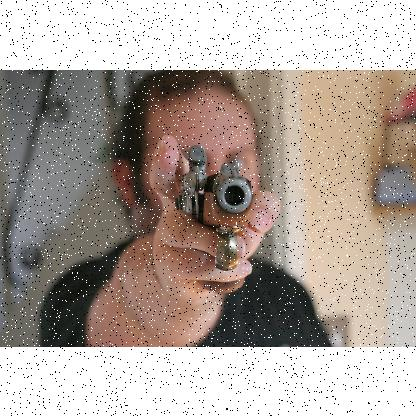gun: (175, 144, 256, 292)
